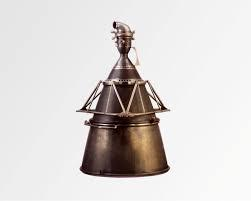thruster: (79, 35, 171, 179), (112, 21, 119, 29)
